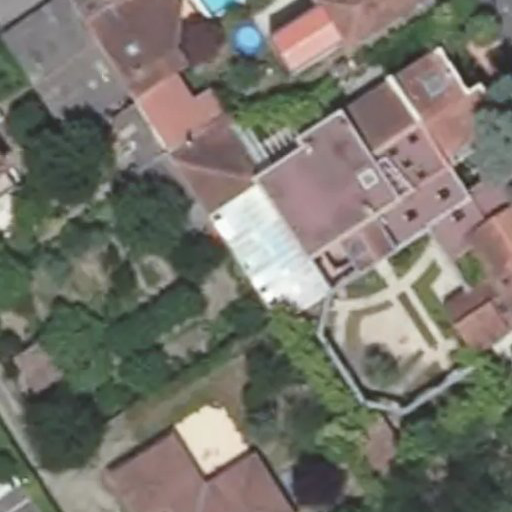pool: (207, 217, 302, 266)
